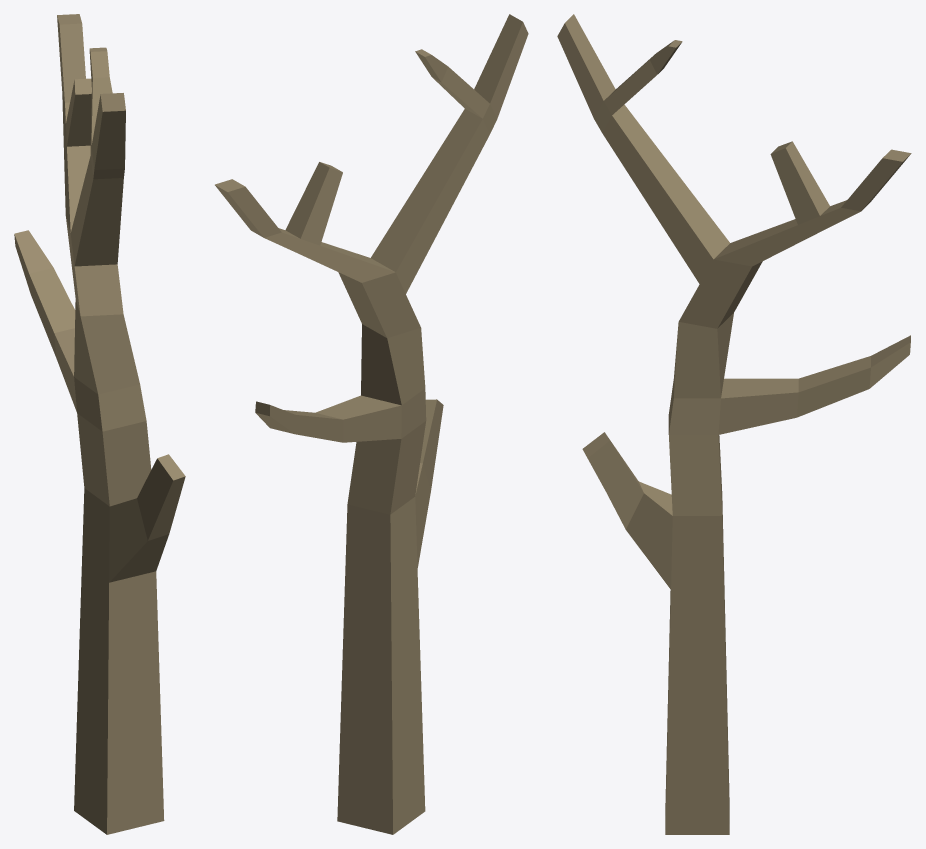
Rendered from tree_big_4.fbx.
3 renders of one model, left to right at view 1: azimuth 30°, elevation 25°; view 2: azimuth 150°, elevation 25°; view 3: azimuth 270°, elevation 25°, orthographic. The views are drawn at different scales.
Parts seen in each view (by area): view 1: tree_big_4; view 2: tree_big_4; view 3: tree_big_4.
Boxes of the visible parts, x1,y1,x2,y2 form: tree_big_4: (14,14,185,834); tree_big_4: (215,14,528,834); tree_big_4: (557,14,911,834).
Size of the model in its own units: 76.91 by 387 by 162.
